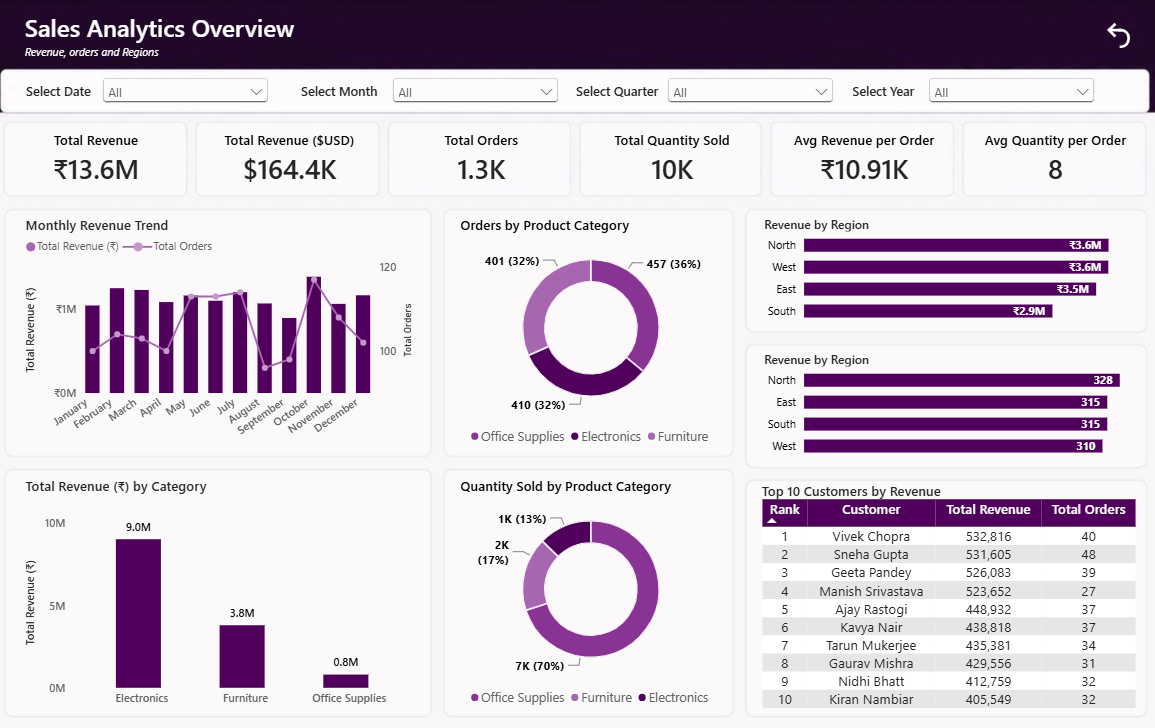

The page's visual inventory and layout, read from the dashboard file:
{"tool":"powerbi","page":{"name":"Sales Analytics Overview","canvas":[1280,810],"ordinal":0},"visuals":[{"type":"actionButton","title":"Clear Filters Button","box":[1216,16,48,48],"z":0,"group":"g4"},{"type":"group","id":"g1","title":"Body","box":[16,82,1264,718],"z":0},{"type":"group","id":"g2","title":"Year","box":[944,82,304,48],"z":0,"group":"g7"},{"type":"textbox","box":[32,91,304,32],"z":0,"group":"g9"},{"type":"textbox","box":[336,91,304,32],"z":0,"group":"g8"},{"type":"textbox","box":[640,91,304,32],"z":0,"group":"g5"},{"type":"textbox","box":[944,91,304,32],"z":0,"group":"g2"},{"type":"cardVisual","title":"Quantity per Order","fields":{"Data":["fact_sales.Avg Quantity per Order"]},"box":[1074,128,192,96],"z":0,"group":"g6"},{"type":"group","id":"g3","title":"Visuals","box":[16,224,1264,576],"z":0,"group":"g1"},{"type":"tableEx","title":"Top 10 Customers by Revenue","fields":{"Values":["fact_sales.Customer Rank","dim_customer.customer_name","fact_sales.Total Revenue","fact_sales.Total Orders"]},"box":[829,528,448,272],"z":0,"group":"g3"},{"type":"group","id":"g4","title":"Header","box":[32,13,1232,80],"z":1000},{"type":"textbox","title":"Subtitle","box":[32,48,176,32],"z":1000,"group":"g4"},{"type":"slicer","fields":{"Values":["dim_date.full_date"]},"box":[112,82,192,48],"z":1000,"group":"g9"},{"type":"slicer","fields":{"Values":["dim_date.month_name"]},"box":[432,82,192,48],"z":1000,"group":"g8"},{"type":"group","id":"g5","title":"Quarter","box":[640,82,304,48],"z":1000,"group":"g7"},{"type":"slicer","fields":{"Values":["dim_date.quarter"]},"box":[736,82,192,48],"z":1000,"group":"g5"},{"type":"slicer","fields":{"Values":["dim_date.year"]},"box":[1024,82,192,48],"z":1000,"group":"g2"},{"type":"group","id":"g6","title":"KPIs","box":[30,128,1236,96],"z":1000,"group":"g1"},{"type":"cardVisual","title":"Revenue per Order","fields":{"Data":["fact_sales.Avg Revenue per Order"]},"box":[862,128,192,96],"z":1000,"group":"g6"},{"type":"donutChart","title":"Quantity Sold by Product Category","fields":{"Category":["dim_product.product_category"],"Y":["fact_sales.Total Quantity Sold"]},"box":[496,512,320,288],"z":1000,"group":"g3"},{"type":"textbox","title":"Title","box":[32,13,304,80],"z":2000,"group":"g4"},{"type":"group","id":"g7","title":"Filters","box":[32,82,1216,48],"z":2000,"group":"g1"},{"type":"group","id":"g8","title":"Month","box":[336,82,304,48],"z":2000,"group":"g7"},{"type":"cardVisual","title":"Quantity","fields":{"Data":["fact_sales.Total Quantity Sold"]},"box":[666,128,160,96],"z":2000,"group":"g6"},{"type":"columnChart","title":"Total Revenue (₹) by Category","fields":{"Category":["dim_product.product_category"],"Y":["fact_sales.Total Revenue"]},"box":[16,512,464,288],"z":2000,"group":"g3"},{"type":"group","id":"g9","title":"Date","box":[32,82,304,48],"z":3000,"group":"g7"},{"type":"cardVisual","title":"Orders","fields":{"Data":["fact_sales.Total Orders"]},"box":[464,128,144,96],"z":3000,"group":"g6"},{"type":"barChart","title":"Revenue by Region","fields":{"Category":["dim_region.region"],"Y":["fact_sales.Total Orders"]},"box":[832,373,448,144],"z":3000,"group":"g3"},{"type":"cardVisual","title":"Revenue ($USD)","fields":{"Data":["fact_sales.Total Revenue USD"]},"box":[236,128,176,96],"z":4000,"group":"g6"},{"type":"barChart","title":"Revenue by Region","fields":{"Category":["dim_region.region"],"Y":["fact_sales.Total Revenue"]},"box":[832,224,448,144],"z":4000,"group":"g3"},{"type":"cardVisual","title":"Revenue","fields":{"Data":["fact_sales.Total Revenue"]},"box":[30,128,160,96],"z":5000,"group":"g6"},{"type":"donutChart","title":"Orders by Product Category","fields":{"Category":["dim_product.product_category"],"Y":["fact_sales.Total Orders"]},"box":[496,224,320,288],"z":5000,"group":"g3"},{"type":"lineStackedColumnComboChart","title":"Monthly Revenue Trend","fields":{"Category":["dim_date.month_name"],"Y":["fact_sales.Total Revenue"],"Y2":["fact_sales.Total Orders"]},"box":[16,224,464,288],"z":6000,"group":"g3"}]}

Visuals, with their boxes in screenshot pixels (x1, y1, x2, y2), scaled from the page's 1280x810 canvas onto the 1155x728 screenshot:
"Clear Filters Button" actionButton: <region>1097, 14, 1141, 58</region>
"Body" group: <region>14, 74, 1154, 719</region>
"Year" group: <region>852, 74, 1126, 117</region>
textbox: <region>29, 82, 303, 111</region>
textbox: <region>303, 82, 578, 111</region>
textbox: <region>578, 82, 852, 111</region>
textbox: <region>852, 82, 1126, 111</region>
"Quantity per Order" cardVisual: <region>969, 115, 1142, 201</region>
"Visuals" group: <region>14, 201, 1154, 719</region>
"Top 10 Customers by Revenue" tableEx: <region>748, 475, 1152, 719</region>
"Header" group: <region>29, 12, 1141, 84</region>
"Subtitle" textbox: <region>29, 43, 188, 72</region>
slicer - dim_date.full_date: <region>101, 74, 274, 117</region>
slicer - dim_date.month_name: <region>390, 74, 563, 117</region>
"Quarter" group: <region>578, 74, 852, 117</region>
slicer - dim_date.quarter: <region>664, 74, 837, 117</region>
slicer - dim_date.year: <region>924, 74, 1097, 117</region>
"KPIs" group: <region>27, 115, 1142, 201</region>
"Revenue per Order" cardVisual: <region>778, 115, 951, 201</region>
"Quantity Sold by Product Category" donutChart: <region>448, 460, 736, 719</region>
"Title" textbox: <region>29, 12, 303, 84</region>
"Filters" group: <region>29, 74, 1126, 117</region>
"Month" group: <region>303, 74, 578, 117</region>
"Quantity" cardVisual: <region>601, 115, 745, 201</region>
"Total Revenue (₹) by Category" columnChart: <region>14, 460, 433, 719</region>
"Date" group: <region>29, 74, 303, 117</region>
"Orders" cardVisual: <region>419, 115, 549, 201</region>
"Revenue by Region" barChart: <region>751, 335, 1154, 465</region>
"Revenue ($USD)" cardVisual: <region>213, 115, 372, 201</region>
"Revenue by Region" barChart: <region>751, 201, 1154, 331</region>
"Revenue" cardVisual: <region>27, 115, 171, 201</region>
"Orders by Product Category" donutChart: <region>448, 201, 736, 460</region>
"Monthly Revenue Trend" lineStackedColumnComboChart: <region>14, 201, 433, 460</region>
